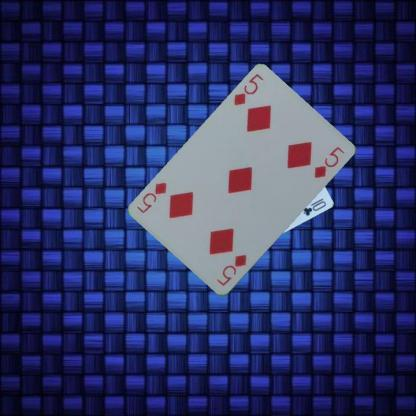5d: (213, 252, 248, 288), (231, 71, 265, 108)
